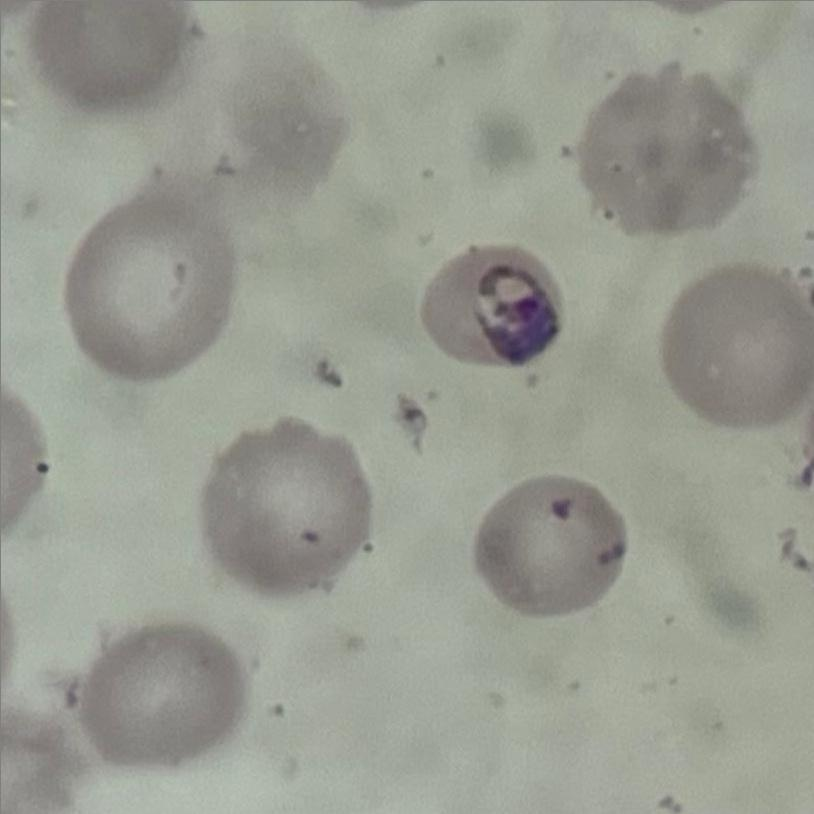Infected: (418, 242, 566, 371)
Uninfected: (67, 199, 231, 381), (207, 417, 373, 594), (575, 67, 747, 236), (660, 262, 814, 432), (82, 622, 246, 760), (477, 475, 627, 618), (33, 0, 181, 100)
